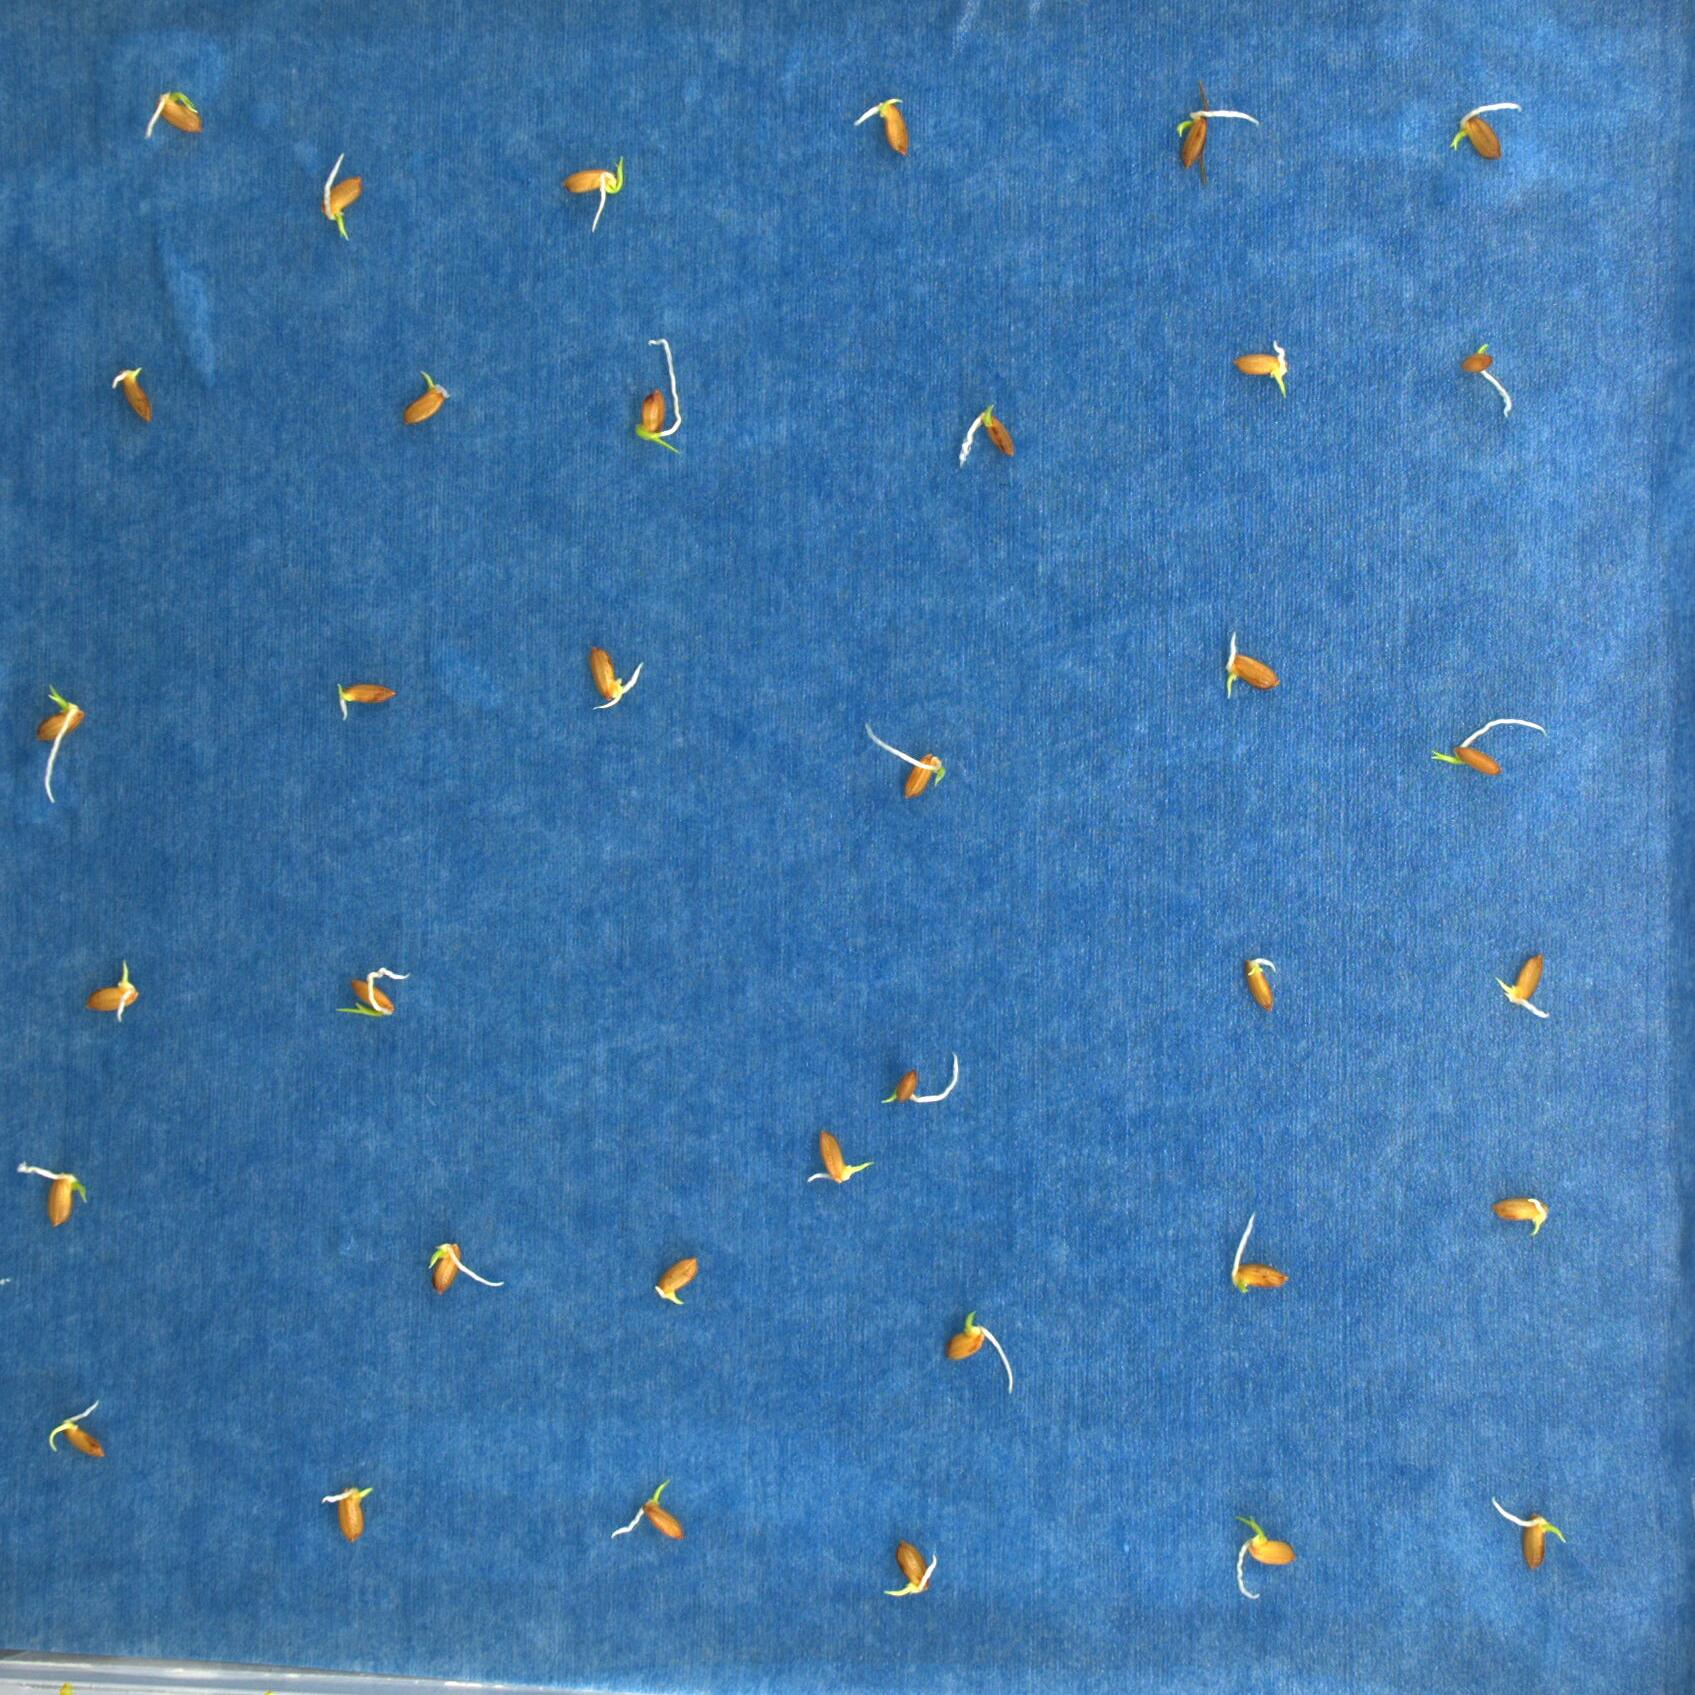not sprout: (868, 712, 950, 796), (947, 1307, 1026, 1392), (1214, 632, 1282, 711), (1228, 1214, 1287, 1302), (1180, 101, 1257, 168), (1493, 951, 1560, 1023), (1450, 99, 1516, 168), (854, 95, 917, 155), (955, 407, 1020, 463), (883, 1055, 961, 1101), (1464, 349, 1513, 419), (1239, 945, 1282, 1023), (329, 674, 394, 723), (1493, 1187, 1551, 1237), (653, 1254, 694, 1312), (112, 366, 154, 421)
sprout: (1430, 712, 1551, 775), (1489, 1487, 1568, 1569), (629, 334, 681, 456), (425, 1240, 508, 1312), (36, 677, 82, 802), (607, 1478, 688, 1543), (1232, 1513, 1291, 1600), (1231, 334, 1301, 407), (22, 1156, 87, 1231), (560, 157, 624, 231), (810, 1121, 868, 1200), (581, 646, 641, 717), (318, 151, 362, 237), (335, 962, 407, 1014), (320, 1481, 379, 1538), (88, 958, 137, 1024), (50, 1402, 109, 1456), (883, 1537, 939, 1593), (399, 373, 449, 428), (143, 93, 203, 138)
